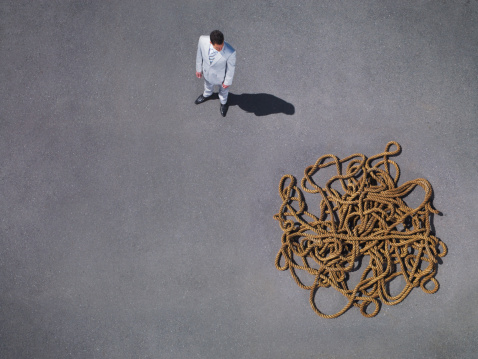em pe: (189, 20, 262, 115)
